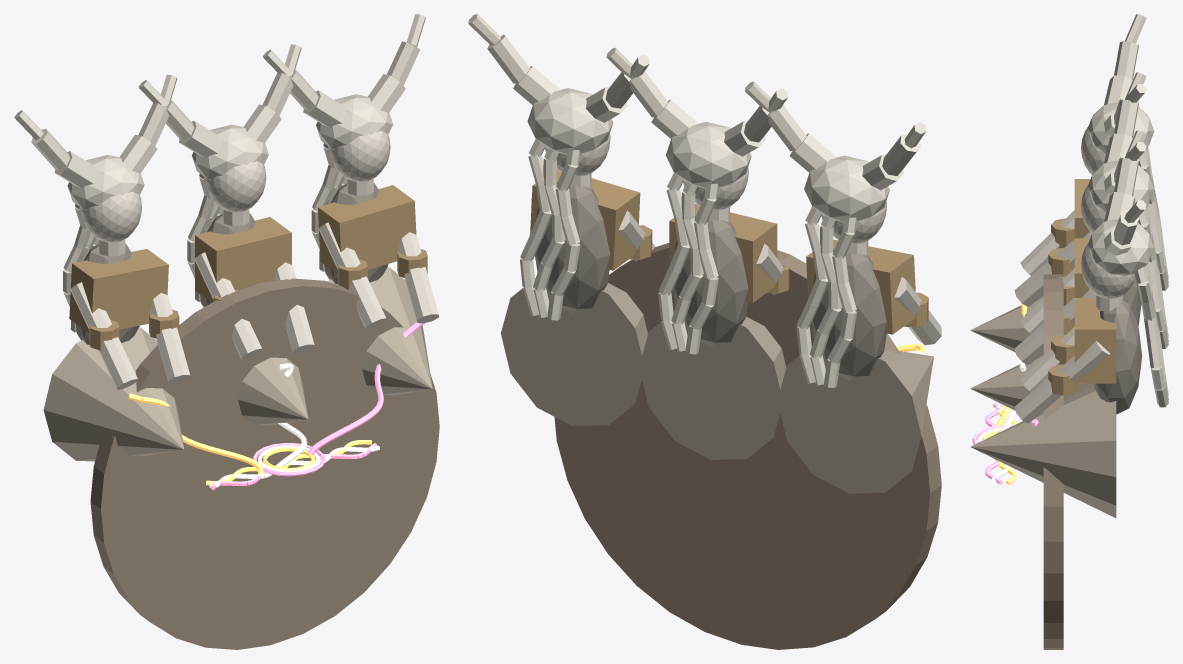
File: Midgard_Three_Norns_Weaving_V1_YUP.glb
3 views of the same model, side by side, from view 1: azimuth 30°, elevation 25°; view 2: azimuth 150°, elevation 25°; view 3: azimuth 270°, elevation 25° (orthographic). The views are drawn at different scales.
Visible parts, largest first — view 1: Fate_Table, Norn0_Skirt, Norn2_Bodice, Norn0_Bodice, Norn2_Skirt, Norn0_Hair, Norn2_Hair, Norn1_Hair, Norn1_Bodice, Norn1_Skirt, Norn2_HairCap, Norn1_HairCap (+15 smaller); view 2: Fate_Table, Norn0_Skirt, Norn2_Skirt, Norn1_Skirt, Norn0_Hair, Norn2_Hair, Norn1_Hair, Norn1_Torso, Norn0_Torso, Norn2_Torso, Norn2_HairCap, Norn0_HairCap (+8 smaller); view 3: Norn2_Skirt, Fate_Table, Norn2_Hair, Norn0_Hair, Norn1_Hair, Norn2_Torso, Norn2_Bodice, Norn2_HairCap, Norn2_ArmR, Norn1_Skirt, Norn0_Skirt, Norn2_Head (+18 smaller).
Boxes of the visible parts, x1,y1,x2,y2 form: Fate_Table: (90, 278, 439, 649); Norn0_Skirt: (43, 327, 184, 461); Norn2_Bodice: (318, 185, 416, 273); Norn0_Bodice: (69, 249, 168, 332); Norn2_Skirt: (327, 267, 432, 395); Norn0_Hair: (14, 74, 177, 332); Norn2_Hair: (263, 14, 425, 271); Norn1_Hair: (138, 44, 301, 301); Norn1_Bodice: (195, 217, 291, 302); Norn1_Skirt: (238, 357, 308, 425); Norn2_HairCap: (316, 94, 393, 149); Norn1_HairCap: (191, 124, 268, 179); Fate_Table: (554, 243, 941, 649); Norn0_Skirt: (778, 345, 933, 493); Norn2_Skirt: (501, 278, 647, 426); Norn1_Skirt: (642, 312, 786, 459); Norn0_Hair: (745, 81, 926, 387); Norn2_Hair: (468, 14, 649, 320); Norn1_Hair: (606, 47, 787, 354); Norn1_Torso: (673, 215, 748, 347); Norn0_Torso: (811, 249, 886, 380); Norn2_Torso: (535, 182, 610, 313); Norn2_HairCap: (527, 88, 613, 154); Norn0_HairCap: (804, 155, 889, 222); Norn2_Skirt: (970, 386, 1116, 517); Fate_Table: (1043, 274, 1063, 649); Norn2_Hair: (1104, 130, 1168, 407); Norn0_Hair: (1104, 14, 1168, 290); Norn1_Hair: (1104, 72, 1168, 348); Norn2_Torso: (1094, 300, 1142, 414); Norn2_Bodice: (1074, 298, 1116, 383); Norn2_HairCap: (1087, 219, 1154, 275); Norn2_ArmR: (1014, 340, 1110, 423); Norn1_Skirt: (970, 353, 1093, 410); Norn0_Skirt: (970, 295, 1043, 352); Norn2_Head: (1081, 243, 1135, 298).
Size of the model in its own units: 5.46 by 6.94 by 2.38.
